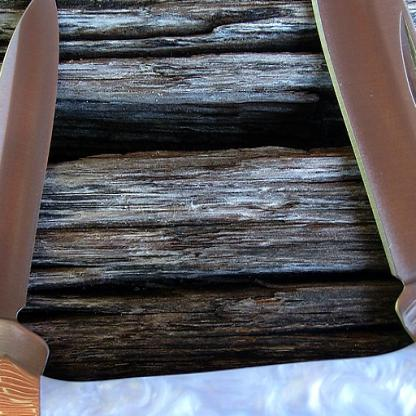knife: (293, 0, 415, 347), (0, 0, 69, 395)
